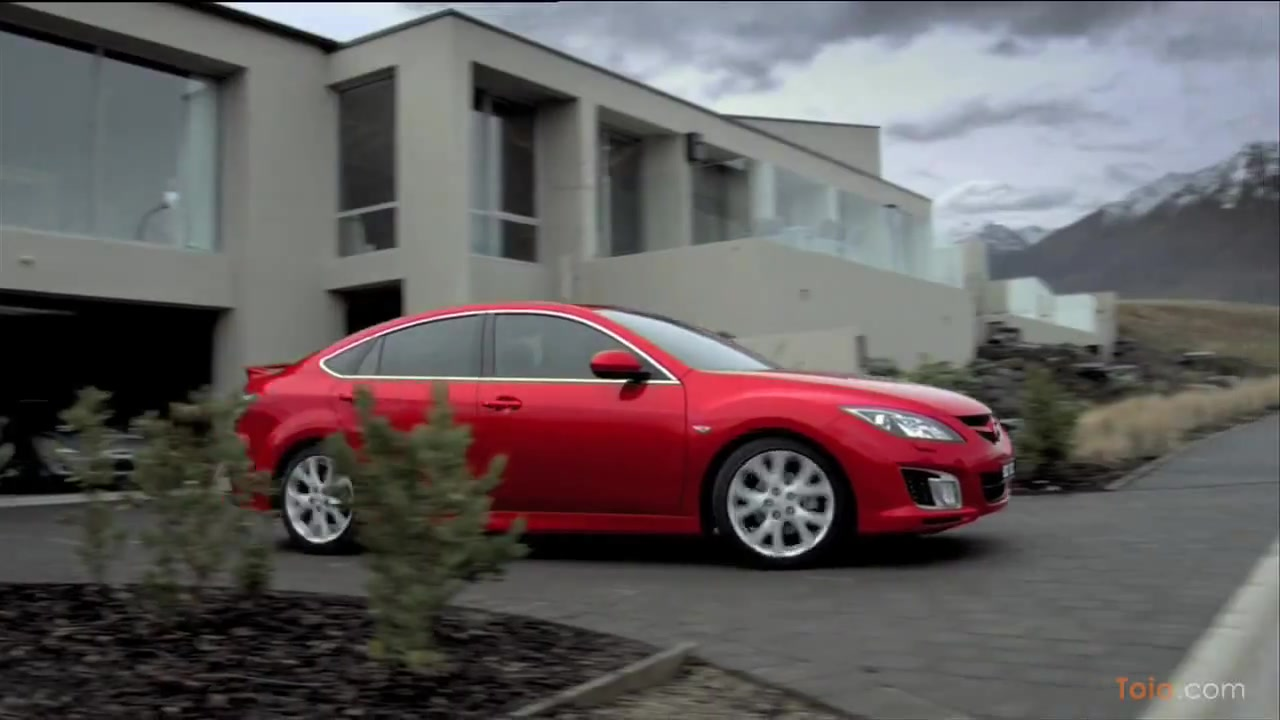car: (227, 301, 1019, 573)
